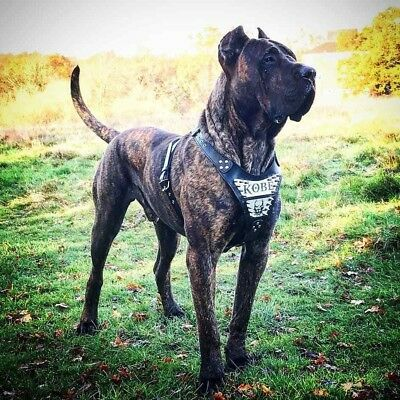Dog: (66, 20, 317, 390)
